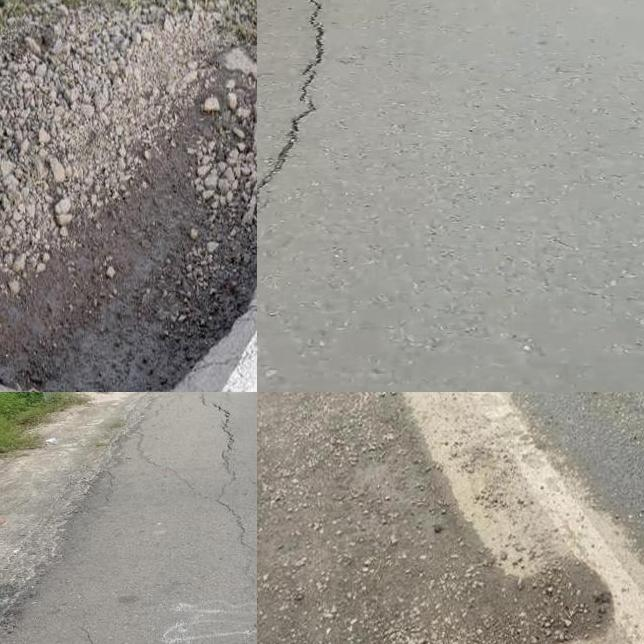Memanjang: (257, 0, 349, 261), (206, 392, 246, 503)
Pinggir: (0, 0, 257, 392)
